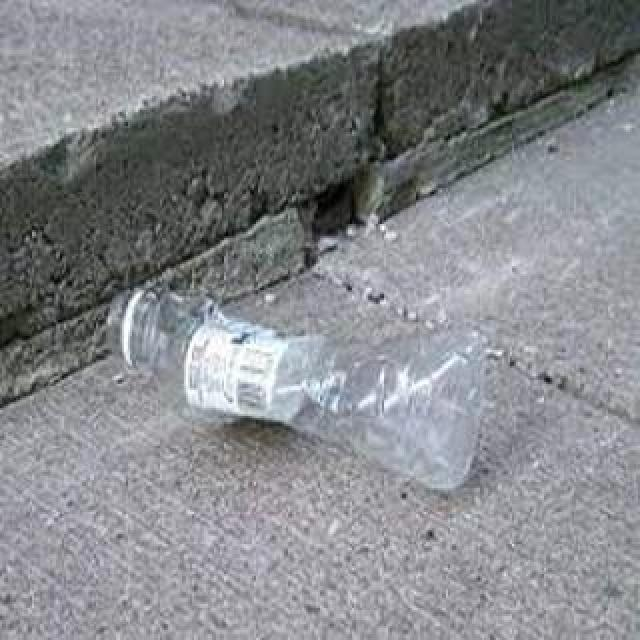Pet_Bottle: (111, 281, 493, 503)
